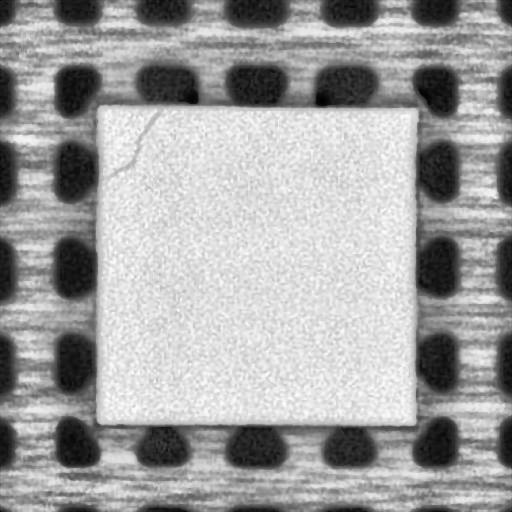DIE_CRACK: (103, 110, 164, 178)
